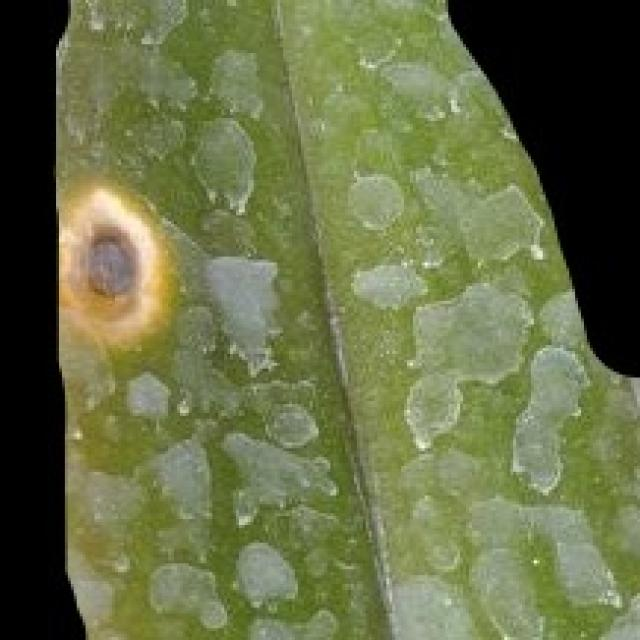mite: (186, 112, 257, 212), (230, 537, 298, 608), (348, 257, 428, 310), (345, 168, 404, 230), (262, 401, 319, 448)
spots: (56, 0, 637, 637)
